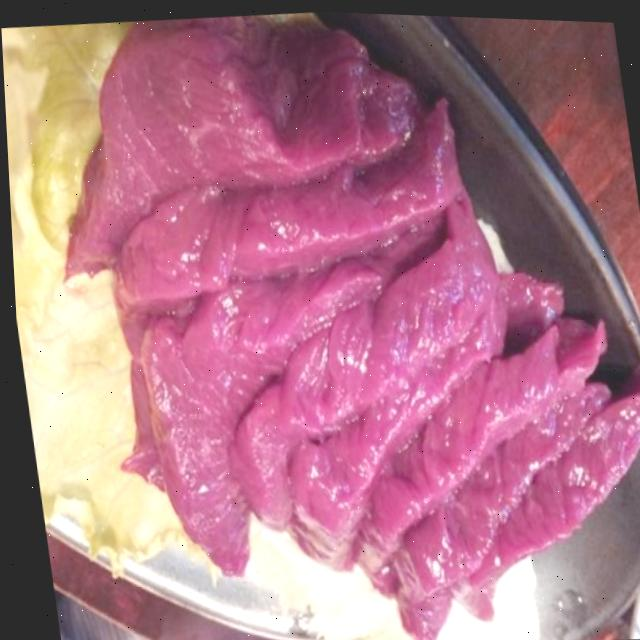刺身生食: (28, 1, 640, 640)
